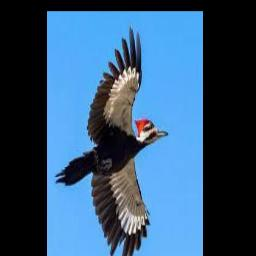Woodpecker: (55, 23, 169, 256)
